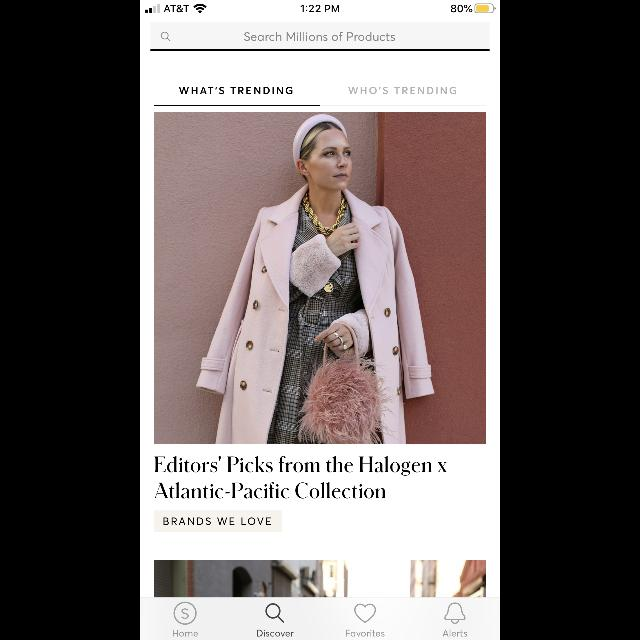icon: (444, 602, 466, 624), (354, 604, 376, 622), (266, 603, 284, 623), (161, 32, 171, 42)
image: (154, 112, 486, 444), (154, 560, 486, 596), (175, 602, 198, 624)
input: (150, 22, 490, 52)
text: (154, 456, 448, 498), (244, 32, 396, 42), (179, 87, 293, 95), (348, 87, 456, 95), (256, 630, 294, 636), (346, 630, 384, 636), (174, 630, 198, 636), (443, 630, 467, 636)
textbutton: (154, 510, 282, 532)
uppertaskbar: (140, 0, 500, 14)
